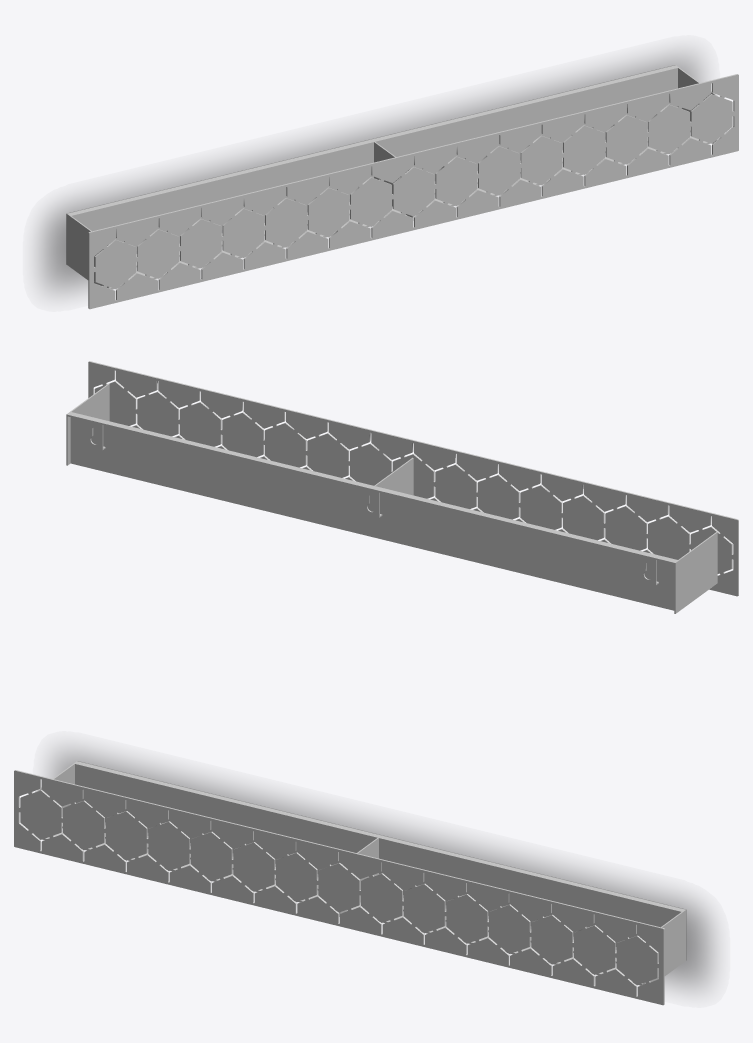
The model's file is bee-mono.7e97096145.ar.glb.
3 views of the same model, one above another, from view 1: azimuth 30°, elevation 25°; view 2: azimuth 150°, elevation 25°; view 3: azimuth 330°, elevation 25° (orthographic).
Visible parts, largest first — view 1: NAUO1, object 2; view 2: NAUO1; view 3: NAUO1, object 2.
Boxes of the visible parts, <box> form: NAUO1: <box>66,65,738,309</box>; object 2: <box>38,53,703,293</box>; NAUO1: <box>66,361,738,613</box>; NAUO1: <box>14,761,686,1005</box>; object 2: <box>49,749,714,989</box>.
Size of the model in its own units: 0.88 by 0.17 by 0.092.
2 materials, 1 textured.
